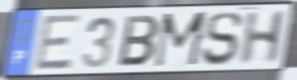3: (81, 15, 116, 69)
B: (116, 14, 162, 68)
E: (33, 13, 82, 74)
H: (237, 9, 289, 67)
M: (150, 10, 211, 71)
S: (200, 10, 244, 68)
